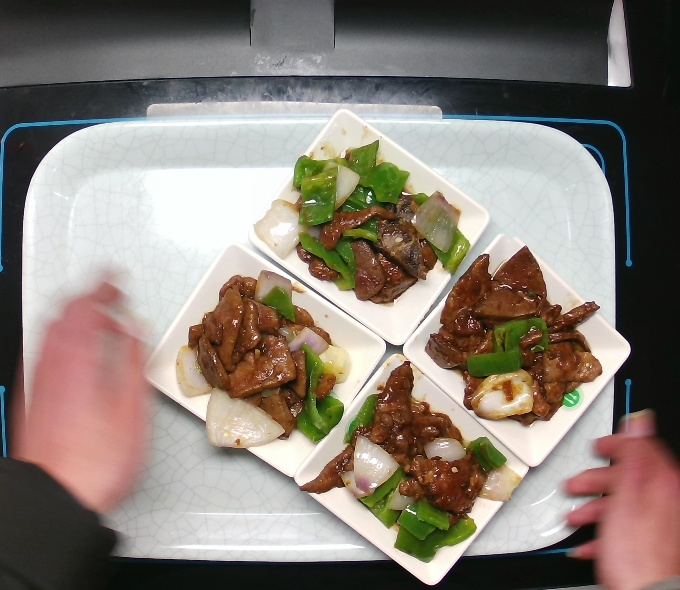wcq-ZhuGan: (295, 356, 528, 568), (249, 134, 474, 308), (421, 237, 607, 431), (174, 265, 349, 454)
